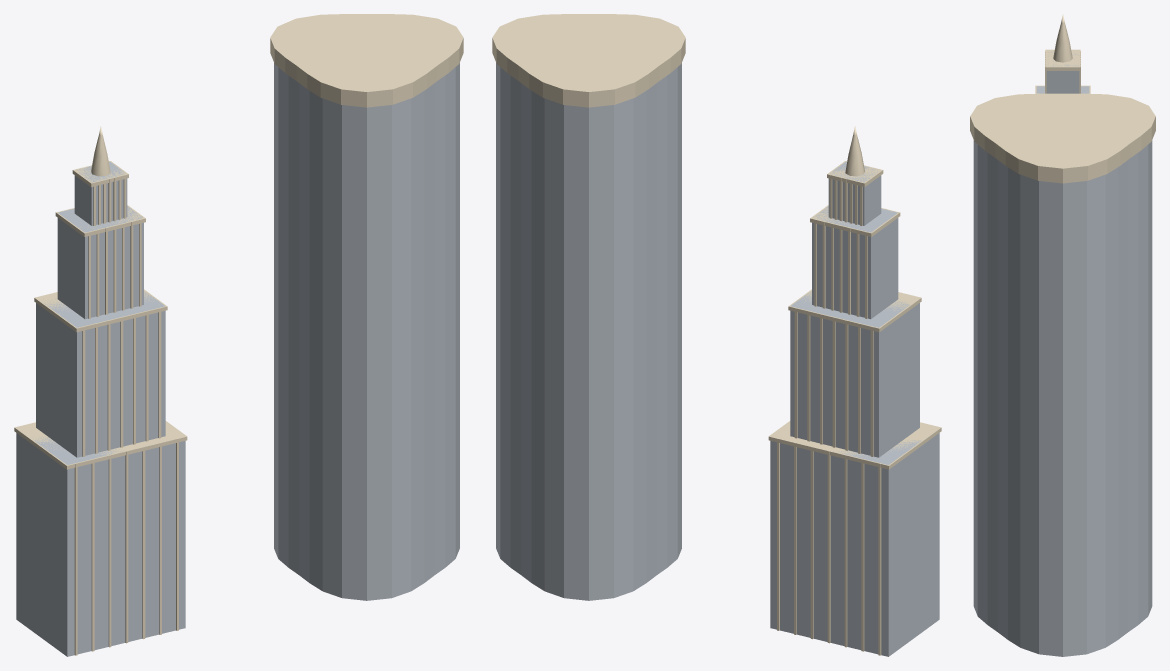
File: sp_towers.glb
The picture shows the model from 3 angles, left to right: view 1: azimuth 30°, elevation 25°; view 2: azimuth 150°, elevation 25°; view 3: azimuth 270°, elevation 25°; orthographic projection. The views are drawn at different scales.
Parts seen in each view (by area): view 1: italia, altino; view 2: italia, altino; view 3: italia, altino.
Boxes of the visible parts, x1,y1,x2,y2 form: italia: (270, 14, 463, 600); altino: (14, 126, 187, 656); italia: (492, 14, 685, 600); altino: (768, 126, 941, 656); italia: (970, 93, 1155, 656); altino: (1035, 15, 1090, 93).
Size of the model in its own units: 141 by 165 by 56.67.
